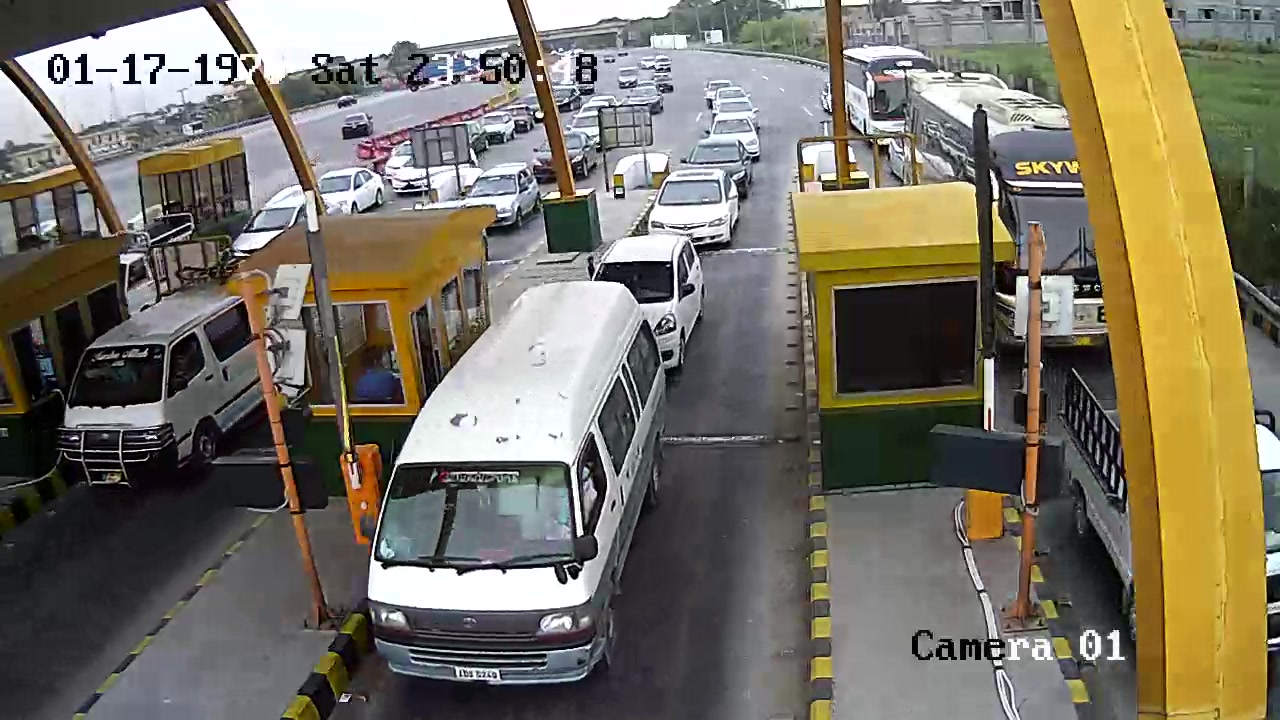F2: (371, 278, 681, 693)
